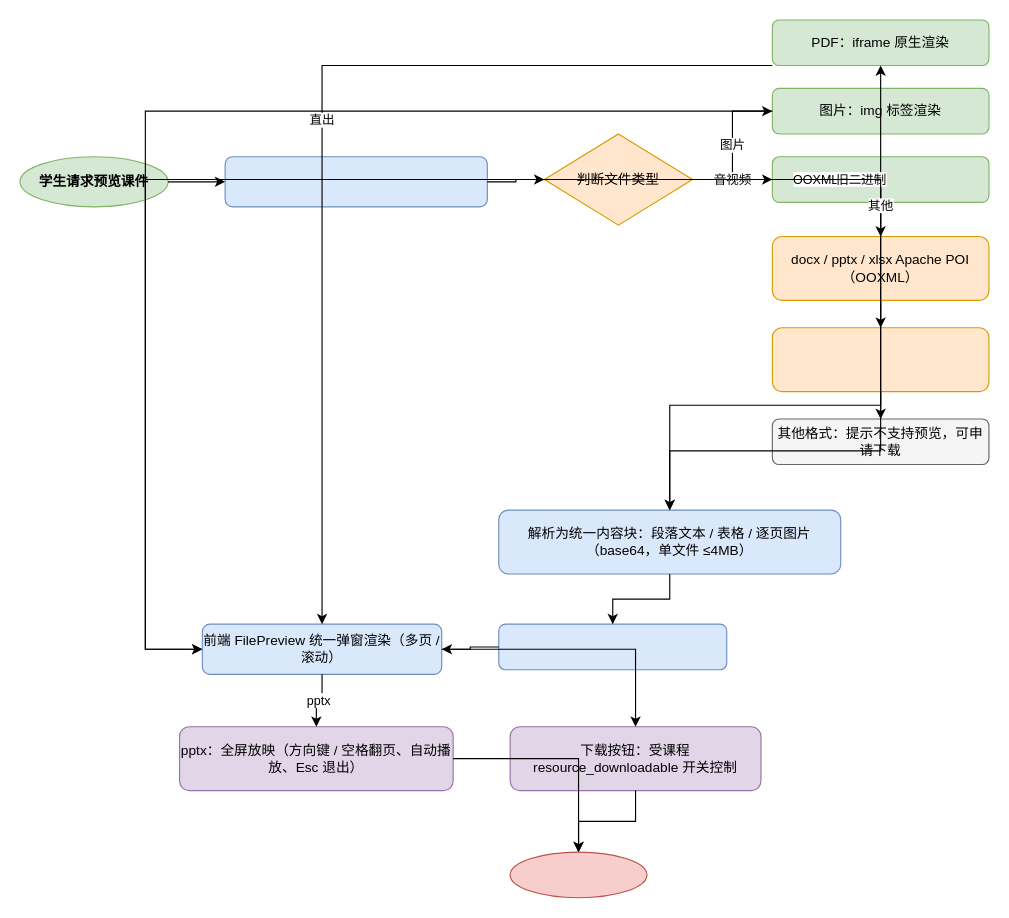
The diagram is 1009 pixels wide and 918 high, and some of its shapes have lost their labels. Here are the shapes that lost their labels. From the top down, the box of each, then its label:
(224, 156, 487, 207): 鉴权与寻址（rid / url 双寻址，校验选课或公开权限）
(771, 156, 989, 202): 音视频：video / audio 播放
(771, 327, 989, 392): doc / ppt / xls（旧格式） poi-scratchpad（HWPF/HSLF/HSSF）
(498, 623, 727, 670): 返回 JSON 内容块列表
(509, 851, 647, 898): 预览完成
